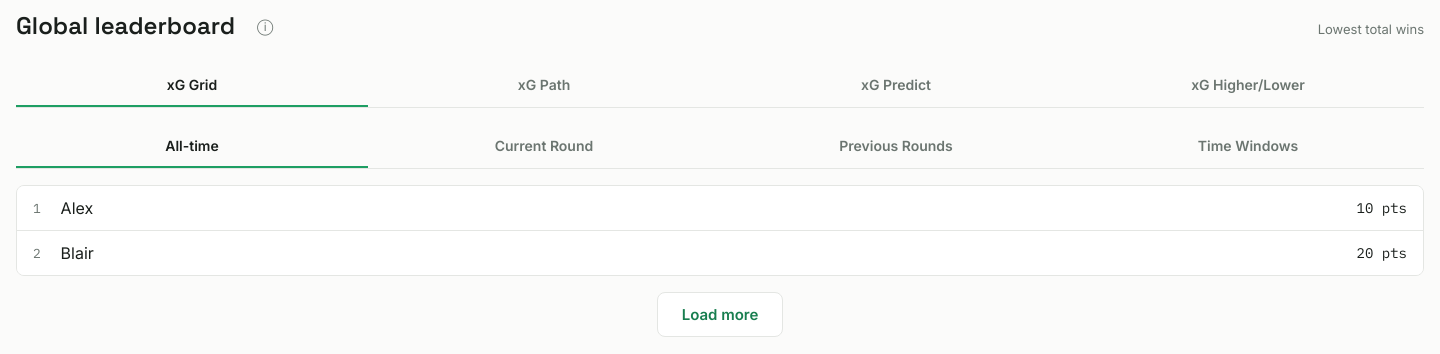
AllTimeLeaderboard › REQ-607: a player who moves from page 2 to page 1 between poll ticks appears once, not duplicated
Expected: the text "Alex" is shown, [61, 198, 93, 218]
What coordinates should you click on to do the following:
click the button "Load more"
I would click on:
 (720, 314)
Its box is [657, 292, 783, 337].
Wait 15000 ms
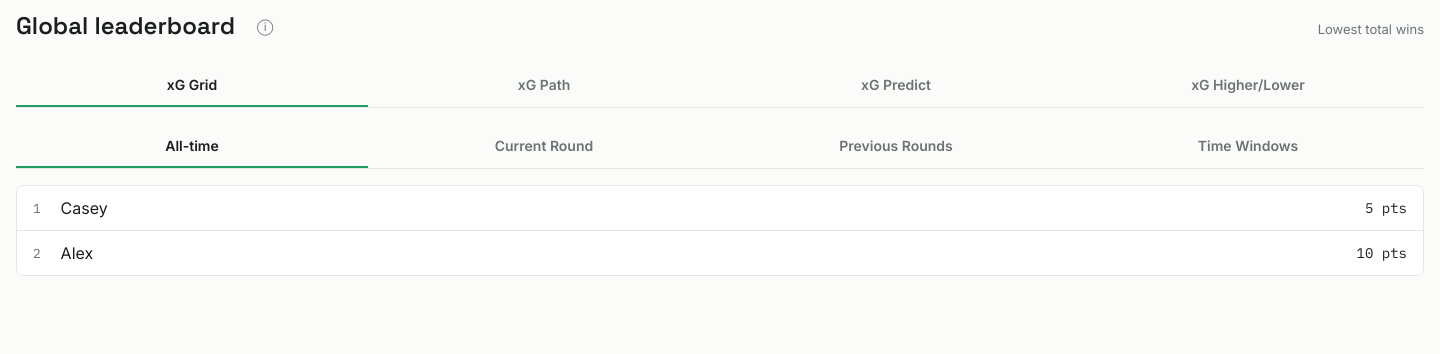
Expected: the text "Casey" is shown, [61, 198, 108, 218]
Expected: the text "5 pts" is shown, [1365, 199, 1407, 217]
Expected: the text "Blair" is gone
